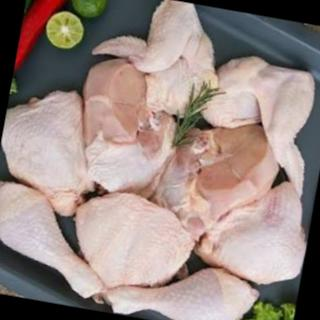Ayam: (145, 107, 292, 262), (63, 50, 197, 209), (186, 44, 320, 200), (81, 1, 237, 130), (63, 184, 208, 308), (186, 163, 320, 296), (1, 73, 114, 223), (1, 176, 123, 304), (101, 247, 267, 320)
